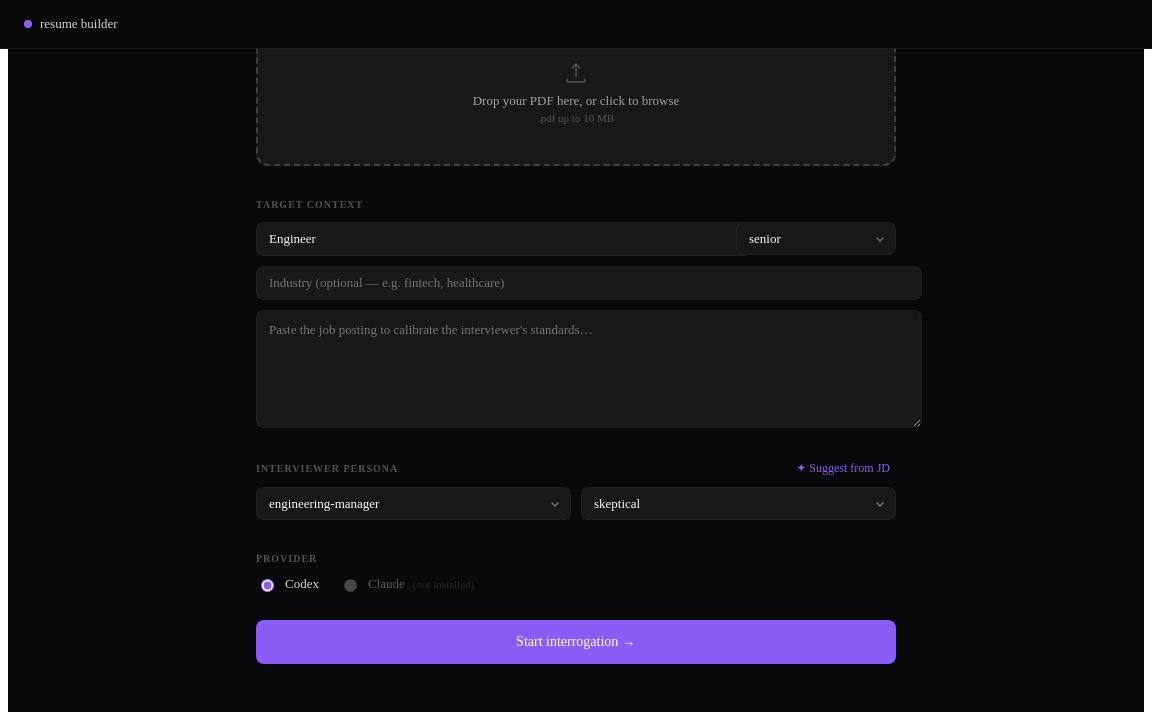
Test: <SetupScreen /> › reaches the session screen after a successful response
(page scrolled)
Click the submit button: (576, 642) left=256, top=620, right=896, bottom=664
(page scrolled)
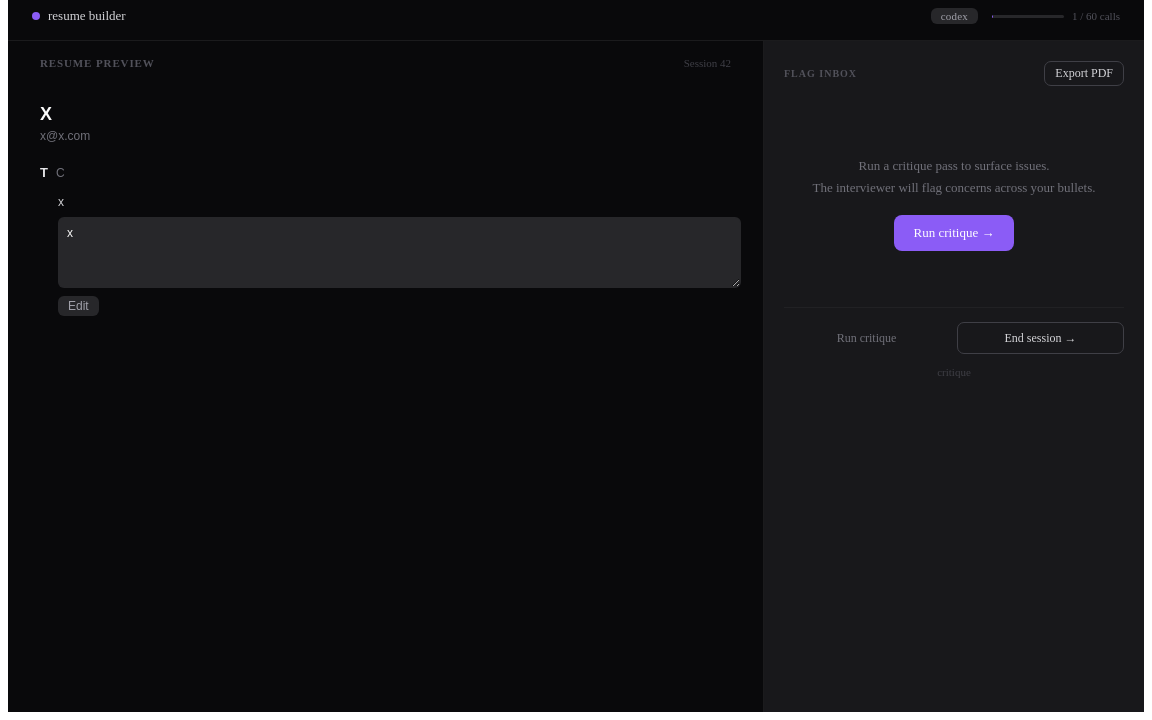
Expected: the text "x" is shown, left=931, top=8, right=978, bottom=24
Expected: the text "Session 42" is shown, left=684, top=57, right=731, bottom=69
Expected: the text "Resume Preview" is shown, left=40, top=57, right=155, bottom=69
